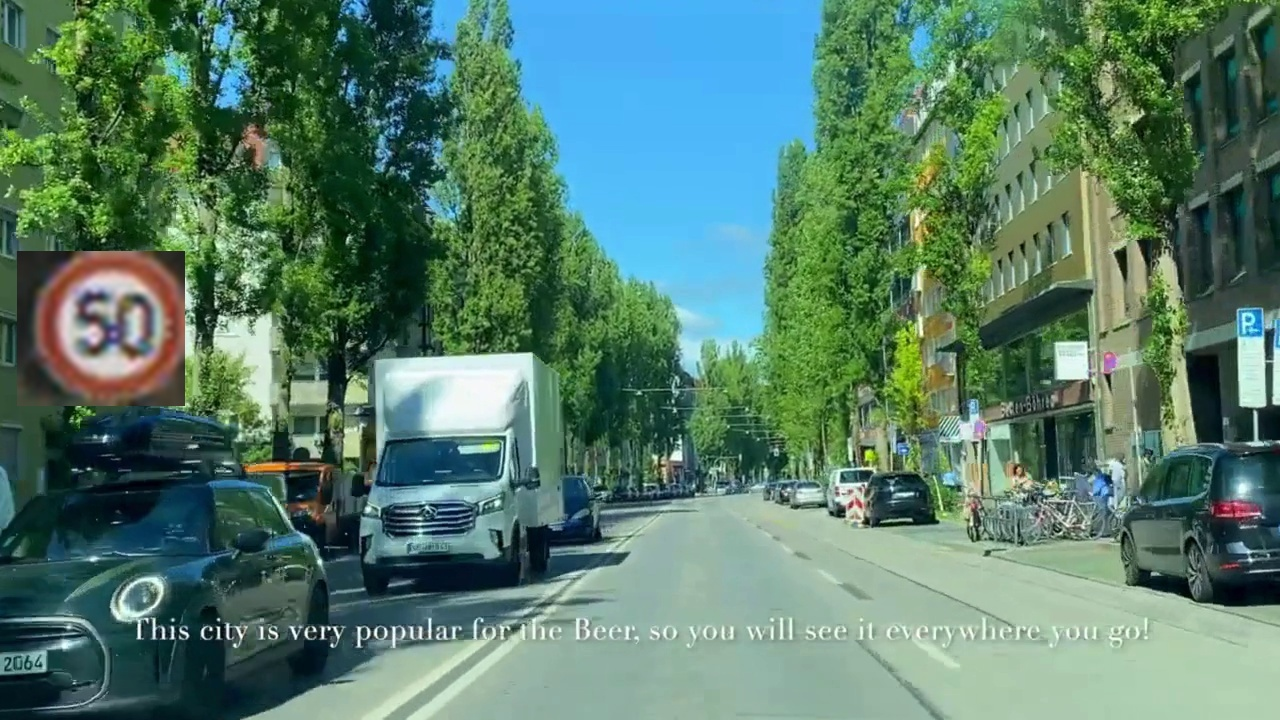Speed 50: (17, 251, 185, 406)
